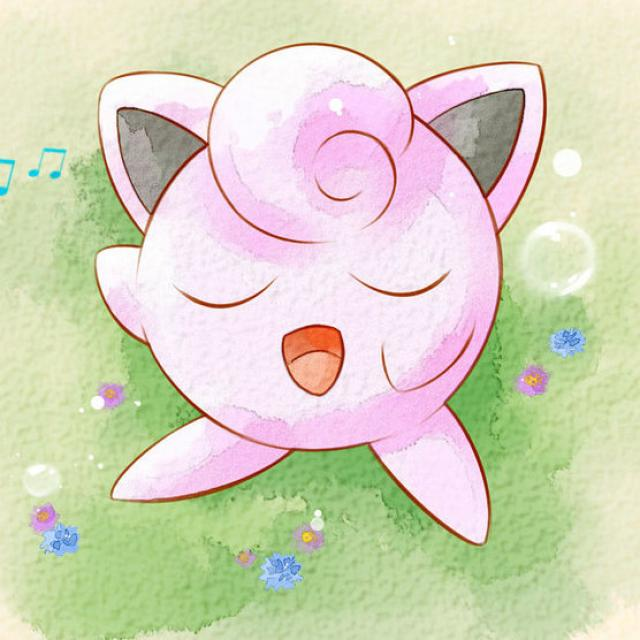Jigglypuff: (80, 48, 558, 543)
